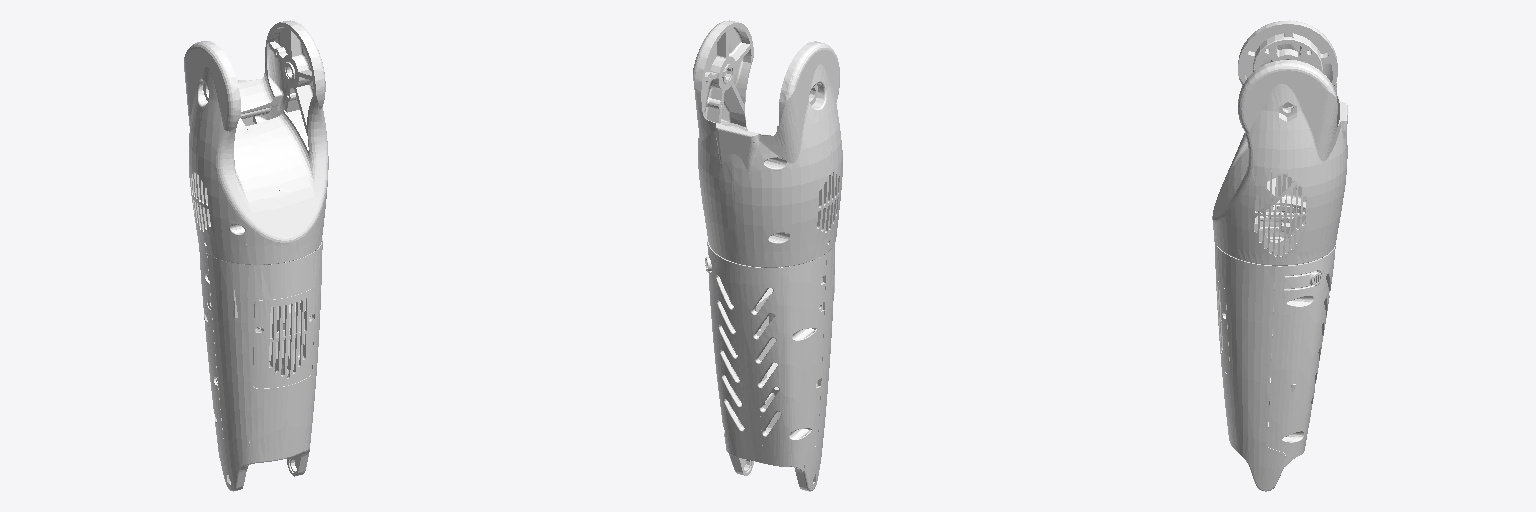
robot.urdf — Arms&Hands_replicated.SLDASM:
<?xml version="1.0" encoding="utf-8"?>
<!-- This URDF was automatically created by SolidWorks to URDF Exporter! Originally created by Stephen Brawner (brawner@gmail.com) 
     Commit Version: 1.6.0-4-g7f85cfe  Build Version: 1.6.7995.38578
     For more information, please see http://wiki.ros.org/sw_urdf_exporter -->
<robot
  name="Arms&amp;Hands_replicated.SLDASM">
  <link
    name="shoulder_link">
    <inertial>
      <origin
        xyz="0.15146 -0.0038312 -0.000404"
        rpy="0 0 0" />
      <mass
        value="0.24343" />
      <inertia
        ixx="0.00022545"
        ixy="5.3797E-06"
        ixz="-6.2309E-08"
        iyy="0.00013249"
        iyz="-9.7441E-06"
        izz="0.00013624" />
    </inertial>
    <visual>
      <origin
        xyz="0 0 0"
        rpy="0 0 0" />
      <geometry>
        <mesh
          filename="package://Arms&amp;Hands_replicated.SLDASM/meshes/shoulder_link.STL" />
      </geometry>
      <material
        name="">
        <color
          rgba="0.79608 0.82353 0.93725 1" />
      </material>
    </visual>
    <collision>
      <origin
        xyz="0 0 0"
        rpy="0 0 0" />
      <geometry>
        <mesh
          filename="package://Arms&amp;Hands_replicated.SLDASM/meshes/shoulder_link.STL" />
      </geometry>
    </collision>
  </link>
  <link
    name="upper_arm_link">
    <inertial>
      <origin
        xyz="0.0017415 0.12502 -0.00087475"
        rpy="0 0 0" />
      <mass
        value="0.23823" />
      <inertia
        ixx="0.00048662"
        ixy="1.6815E-05"
        ixz="1.2568E-07"
        iyy="0.00013013"
        iyz="-1.2968E-05"
        izz="0.00046482" />
    </inertial>
    <visual>
      <origin
        xyz="0 0 0"
        rpy="0 0 0" />
      <geometry>
        <mesh
          filename="package://Arms&amp;Hands_replicated.SLDASM/meshes/upper_arm_link.STL" />
      </geometry>
      <material
        name="">
        <color
          rgba="1 1 1 1" />
      </material>
    </visual>
    <collision>
      <origin
        xyz="0 0 0"
        rpy="0 0 0" />
      <geometry>
        <mesh
          filename="package://Arms&amp;Hands_replicated.SLDASM/meshes/upper_arm_link.STL" />
      </geometry>
    </collision>
  </link>
  <joint
    name="elbow_joint"
    type="revolute">
    <origin
      xyz="0.205 -0.0015189 5.7522E-05"
      rpy="-1.6086 0 0" />
    <parent
      link="shoulder_link" />
    <child
      link="upper_arm_link" />
    <axis
      xyz="0 0 0" />
    <limit
      lower="0"
      upper="0"
      effort="0"
      velocity="0" />
  </joint>
  <link
    name="forearm_link">
    <inertial>
      <origin
        xyz="-0.12885 -0.00093802 -0.00080619"
        rpy="0 0 0" />
      <mass
        value="0.18498" />
      <inertia
        ixx="8.799E-05"
        ixy="-1.7921E-06"
        ixz="-5.4347E-06"
        iyy="0.00026598"
        iyz="-9.5868E-07"
        izz="0.00026382" />
    </inertial>
    <visual>
      <origin
        xyz="0 0 0"
        rpy="0 0 0" />
      <geometry>
        <mesh
          filename="package://Arms&amp;Hands_replicated.SLDASM/meshes/forearm_link.STL" />
      </geometry>
      <material
        name="">
        <color
          rgba="1 1 1 1" />
      </material>
    </visual>
    <collision>
      <origin
        xyz="0 0 0"
        rpy="0 0 0" />
      <geometry>
        <mesh
          filename="package://Arms&amp;Hands_replicated.SLDASM/meshes/forearm_link.STL" />
      </geometry>
    </collision>
  </link>
  <joint
    name="forearm_updown_joint"
    type="revolute">
    <origin
      xyz="0.00051304 0.4837 -0.00034787"
      rpy="-1.5708 0 1.5708" />
    <parent
      link="upper_arm_link" />
    <child
      link="forearm_link" />
    <axis
      xyz="0 0 0" />
    <limit
      lower="0"
      upper="0"
      effort="0"
      velocity="0" />
  </joint>
  <link
    name="forearm_roll_link">
    <inertial>
      <origin
        xyz="-0.12885 -0.00093802 -0.00080619"
        rpy="0 0 0" />
      <mass
        value="0.18498" />
      <inertia
        ixx="8.799E-05"
        ixy="-1.7921E-06"
        ixz="-5.4347E-06"
        iyy="0.00026598"
        iyz="-9.5868E-07"
        izz="0.00026382" />
    </inertial>
    <visual>
      <origin
        xyz="0 0 0"
        rpy="0 0 0" />
      <geometry>
        <mesh
          filename="package://Arms&amp;Hands_replicated.SLDASM/meshes/forearm_roll_link.STL" />
      </geometry>
      <material
        name="">
        <color
          rgba="1 1 1 1" />
      </material>
    </visual>
    <collision>
      <origin
        xyz="0 0 0"
        rpy="0 0 0" />
      <geometry>
        <mesh
          filename="package://Arms&amp;Hands_replicated.SLDASM/meshes/forearm_roll_link.STL" />
      </geometry>
    </collision>
  </link>
  <joint
    name="foreamr_roll_joint"
    type="revolute">
    <origin
      xyz="0 0 0"
      rpy="0 0 0" />
    <parent
      link="forearm_link" />
    <child
      link="forearm_roll_link" />
    <axis
      xyz="0 0 0" />
    <limit
      lower="0"
      upper="0"
      effort="0"
      velocity="0" />
  </joint>
</robot>

--- Render facts (derived) ---
3 views of the same robot in one strip: view 1: azimuth 30°, elevation 25°; view 2: azimuth 150°, elevation 25°; view 3: azimuth 270°, elevation 25° (orthographic).
Robot: Arms&Hands_replicated.SLDASM — 4 links, 3 joints (3 revolute); root link shoulder_link; default pose: every joint at zero.
Links seen in each view (by area): view 1: forearm_link; view 2: forearm_link; view 3: forearm_link.
Boxes of the visible links, <box> form: forearm_link: <box>184,20,328,491</box>; forearm_link: <box>693,20,842,491</box>; forearm_link: <box>1212,20,1347,491</box>.
Size in the robot's own frame: 0.0759 by 0.0744 by 0.2627 metres.
2 mesh visuals loaded from 4 distinct referenced files (2 binary STL); not drawn: 2 (reference not matched to a file when rendering).
